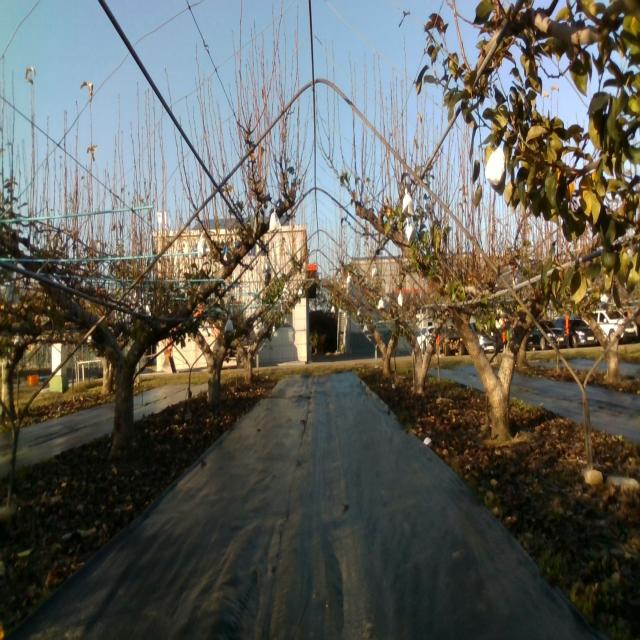pearbags: (486, 144, 508, 194), (402, 188, 415, 216), (269, 208, 282, 232), (405, 218, 417, 242), (198, 236, 210, 260)
